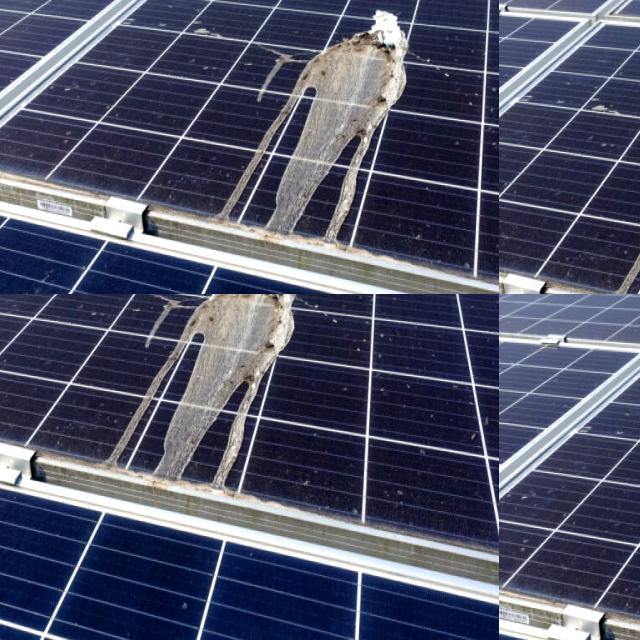crack: (0, 294, 469, 640), (0, 0, 499, 262)
dust: (542, 226, 640, 282)
